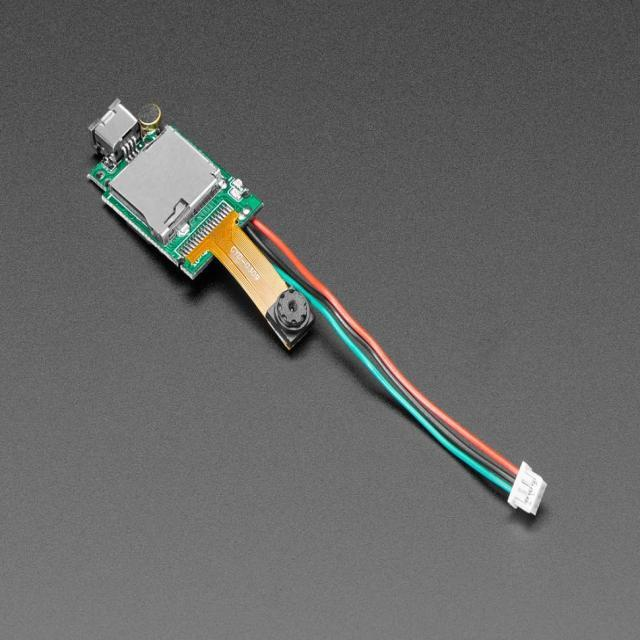hidden camera: (284, 294, 301, 320)
